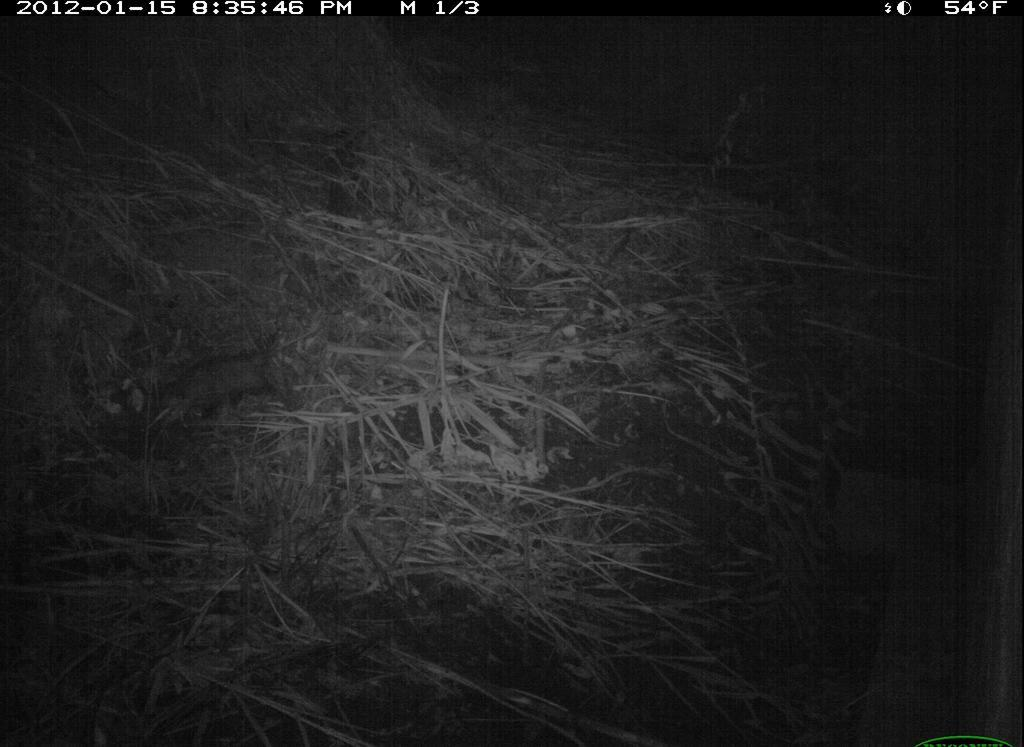opossum: (145, 326, 295, 431)
